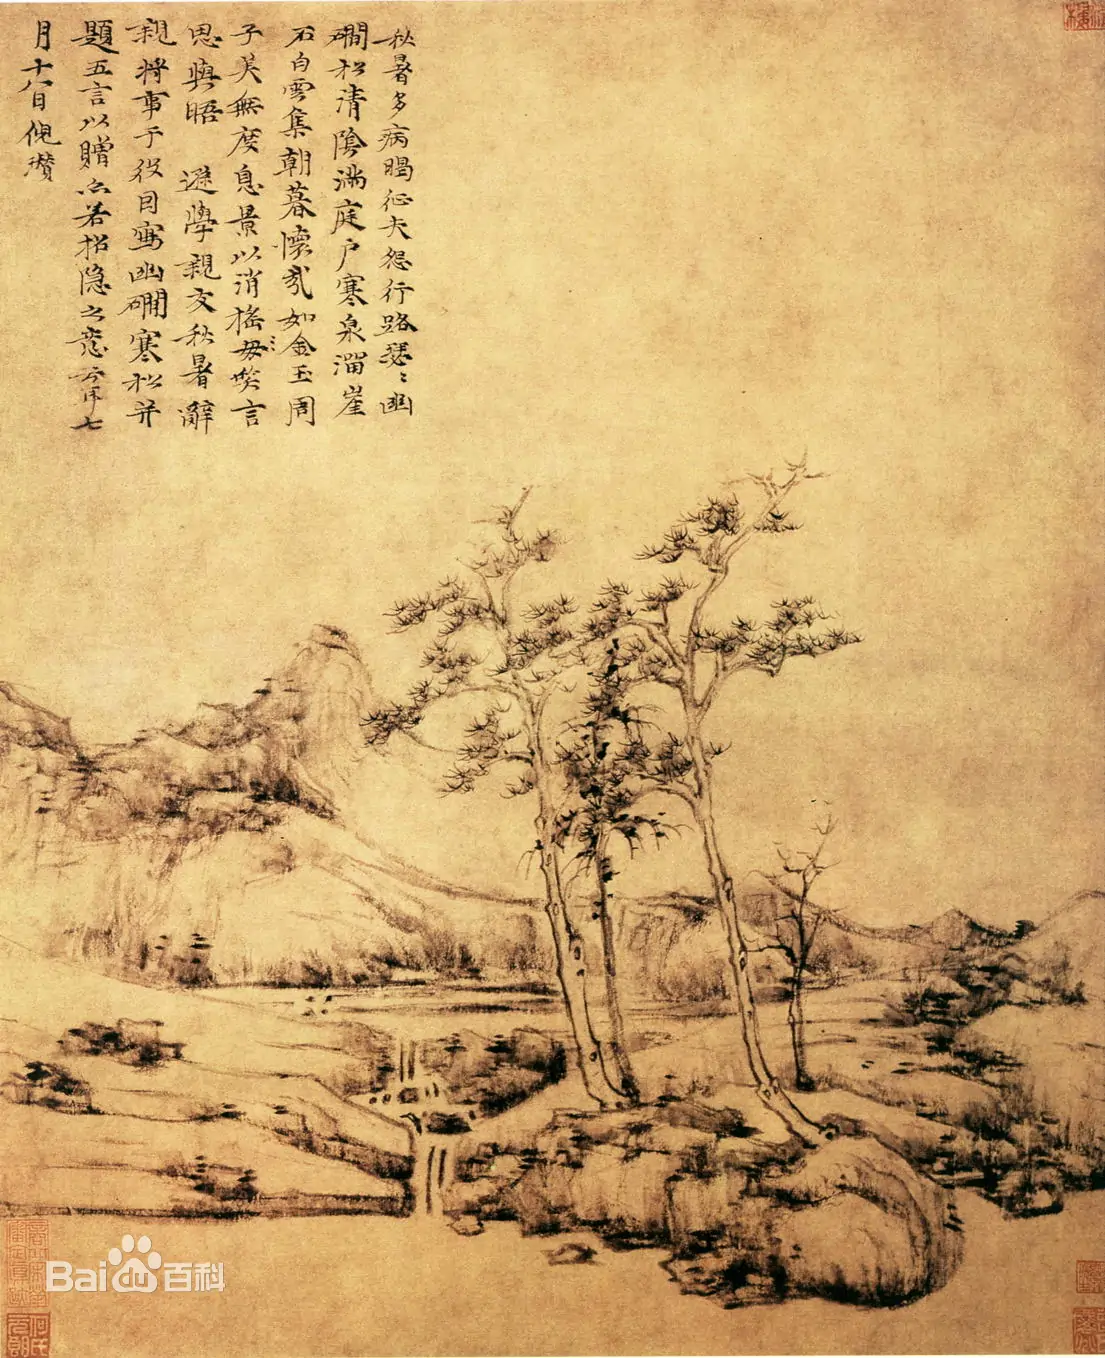creek: (339, 1015, 476, 1237)
hill: (1, 626, 440, 931)
pine: (365, 440, 864, 1143)
rock: (496, 1115, 978, 1321)
